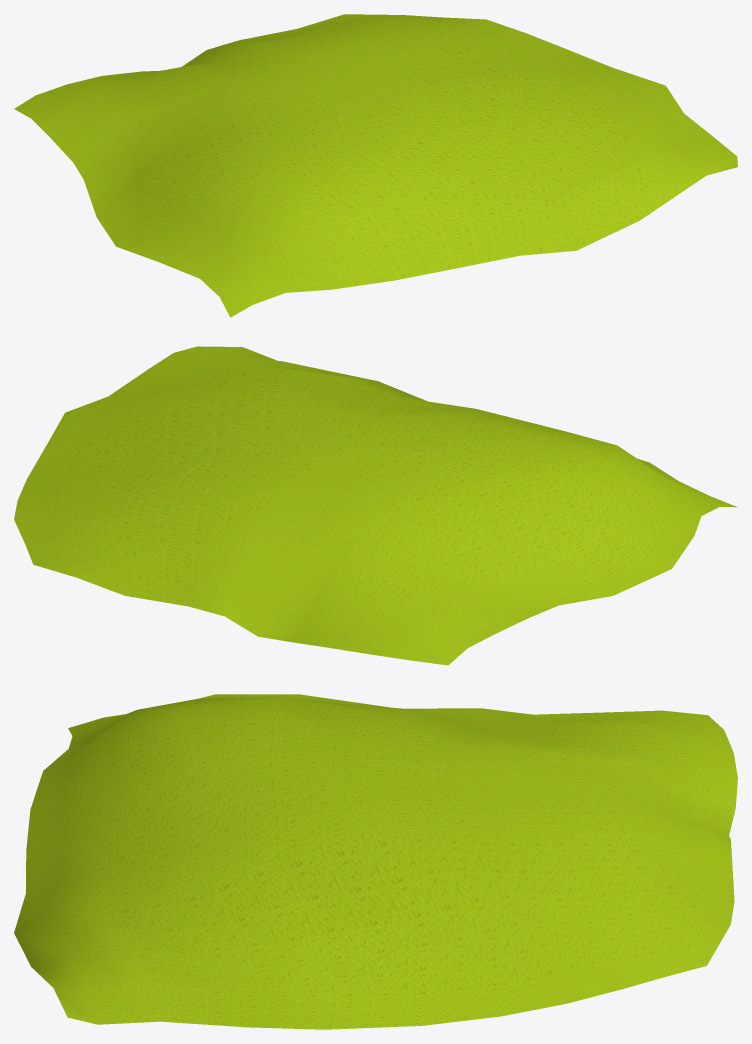
The model's file is ground.glb.
3 views of the same model, one above another, from view 1: azimuth 30°, elevation 25°; view 2: azimuth 150°, elevation 25°; view 3: azimuth 270°, elevation 25° (orthographic). The views are drawn at different scales.
Parts seen in each view (by area): view 1: ground; view 2: ground; view 3: ground.
Part boxes in pixels (x1=…): ground: x1=14, y1=14, x2=737, y2=317; ground: x1=14, y1=346, x2=737, y2=665; ground: x1=14, y1=694, x2=737, y2=1029.
Bounding box in the file's own units: 58.2 × 7.31 × 49.73.
1 material, 1 textured.
